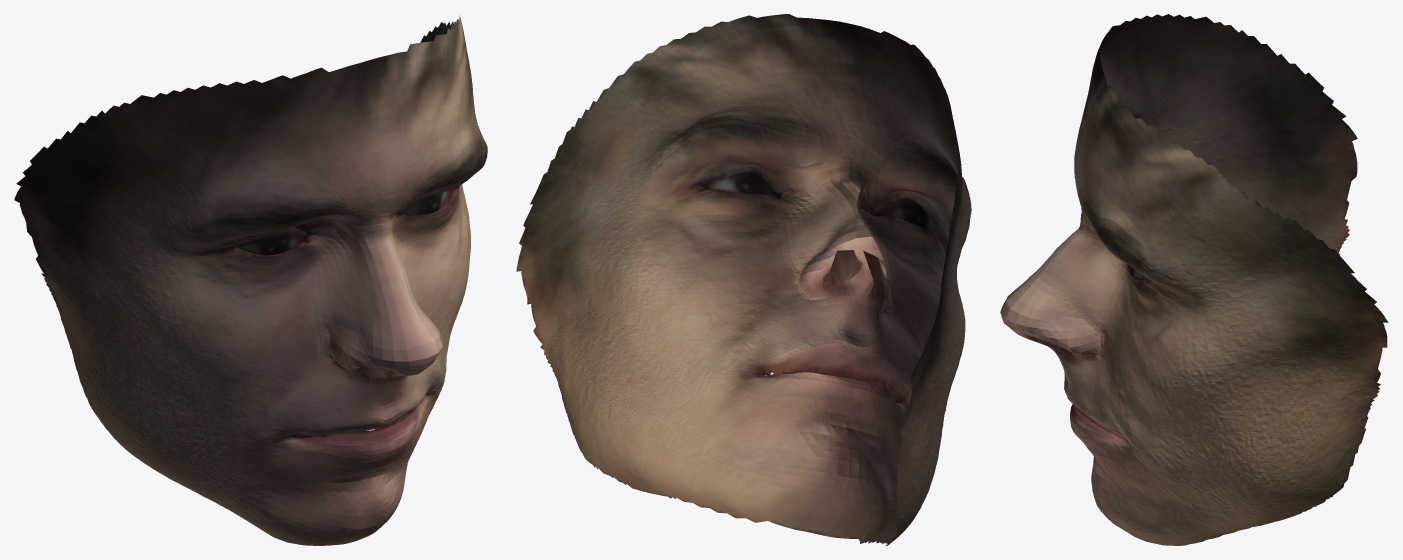
Rendered from 3DDFAV3.obj.
3 views of the same model, side by side, from view 1: azimuth 30°, elevation 25°; view 2: azimuth 150°, elevation 25°; view 3: azimuth 270°, elevation 25° (orthographic). The views are drawn at different scales.
Bounding box in the file's own units: 1.33 × 1.57 × 1.17.
